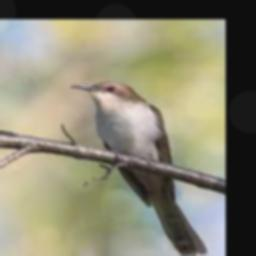Cuckoo: (70, 81, 205, 255)
